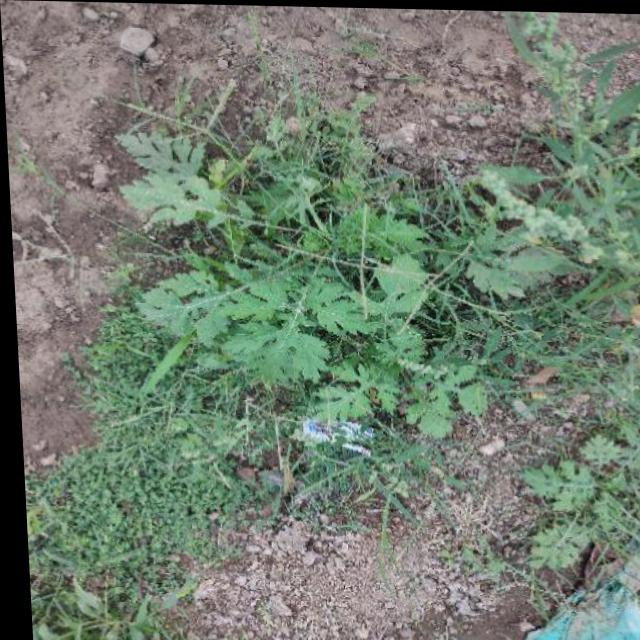weed: (97, 107, 491, 483)
